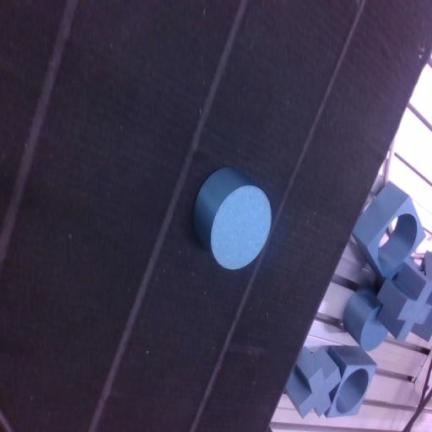cylinder: (194, 167, 271, 269)
